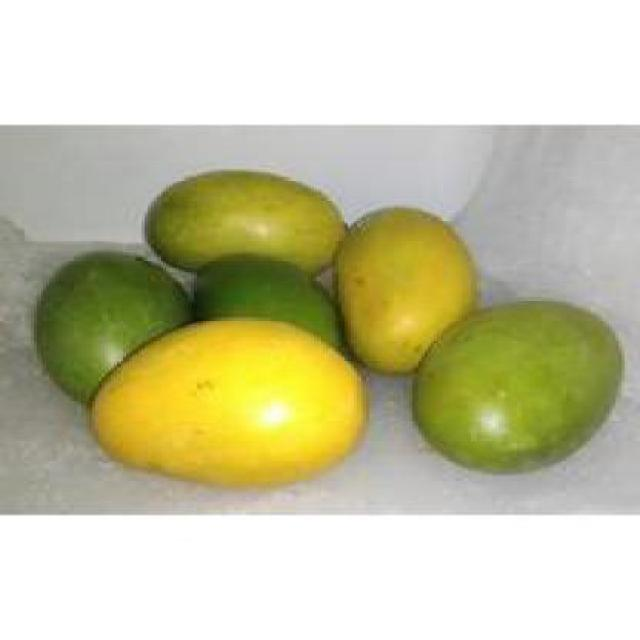mango: (86, 315, 372, 485), (412, 298, 618, 470), (335, 208, 480, 360), (136, 166, 344, 266), (31, 248, 175, 378)
